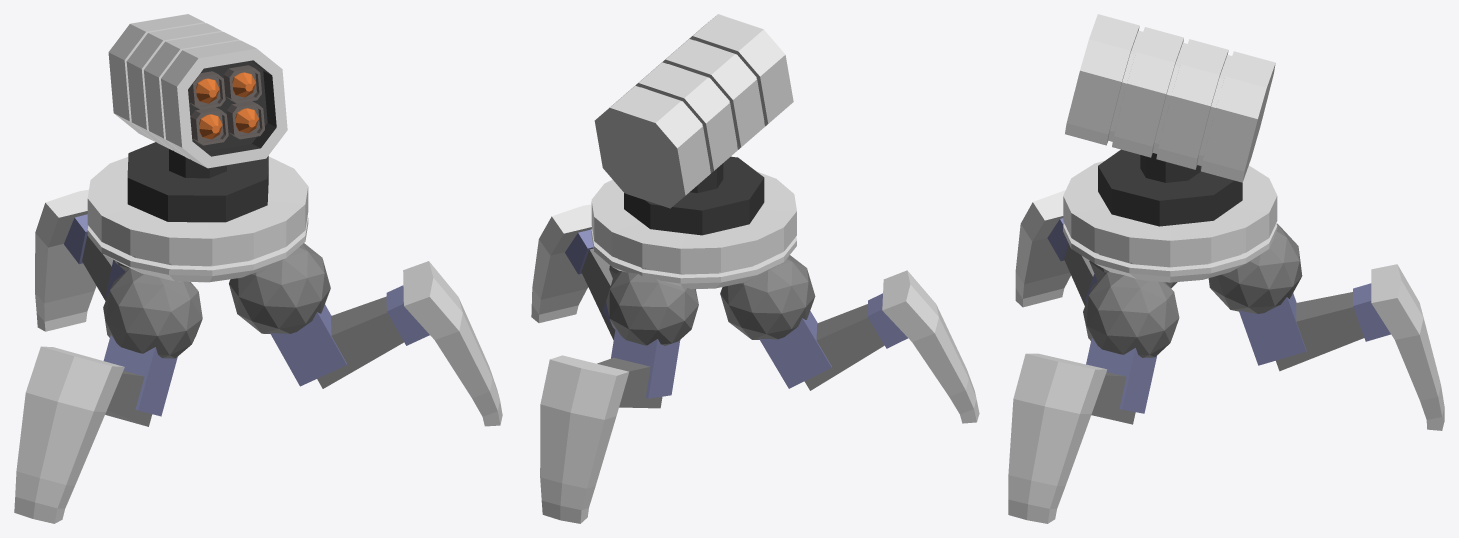
Rendered from sasha-toy-robot-1.fbx.
3 views of the same model, side by side, from view 1: azimuth 30°, elevation 25°; view 2: azimuth 150°, elevation 25°; view 3: azimuth 270°, elevation 25° (orthographic). The views are drawn at different scales.
Parts seen in each view (by area): view 1: Legs, Roket launcher.001, Base.002; view 2: Legs, Roket launcher.001, Base.002; view 3: Legs, Roket launcher.001, Base.002.
Part boxes in pixels (x1=…): Legs: x1=14, y1=189, x2=502, y2=523; Roket launcher.001: x1=108, y1=14, x2=287, y2=222; Base.002: x1=87, y1=156, x2=308, y2=282; Legs: x1=531, y1=204, x2=979, y2=523; Roket launcher.001: x1=594, y1=14, x2=793, y2=235; Base.002: x1=591, y1=171, x2=796, y2=289; Legs: x1=1008, y1=190, x2=1444, y2=523; Roket launcher.001: x1=1065, y1=14, x2=1275, y2=226; Base.002: x1=1063, y1=160, x2=1277, y2=282.
Size of the model in its own units: 729 by 585 by 593.
